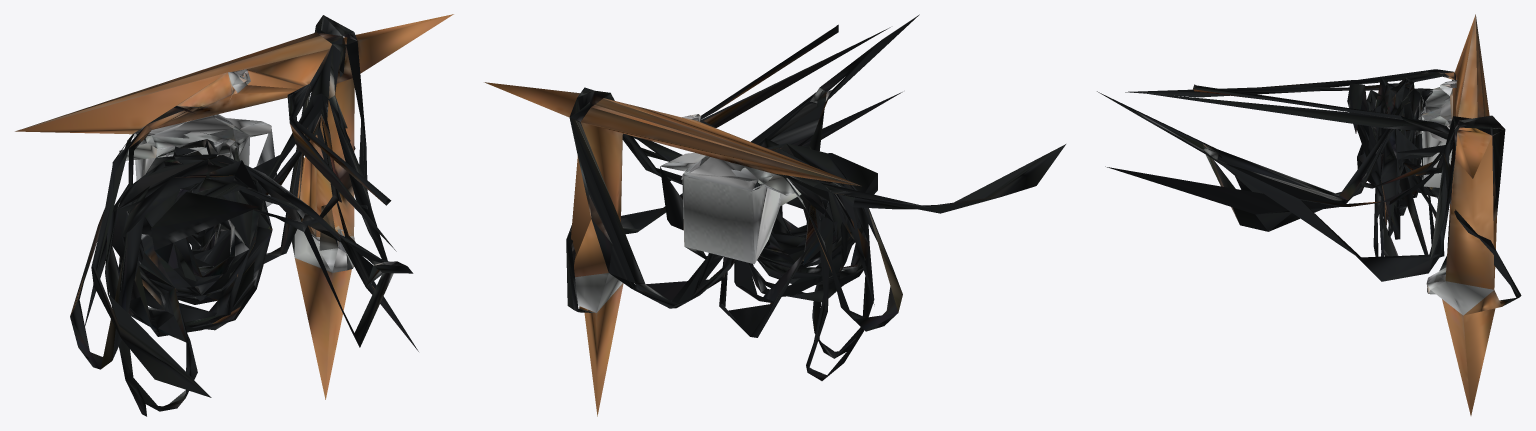
The model's file is fv_wires.glb.
3 renders of one model, left to right at view 1: azimuth 30°, elevation 25°; view 2: azimuth 150°, elevation 25°; view 3: azimuth 270°, elevation 25°, orthographic. The views are drawn at different scales.
Parts seen in each view (by area): view 1: fv_wires; view 2: fv_wires; view 3: fv_wires.
Boxes of the visible parts, x1,y1,x2,y2 form: fv_wires: (15,14,453,416); fv_wires: (484,14,1065,416); fv_wires: (1097,14,1521,415).
Bounding box in the file's own units: 3.01 × 2.3 × 2.91.
1 material, 1 textured.
